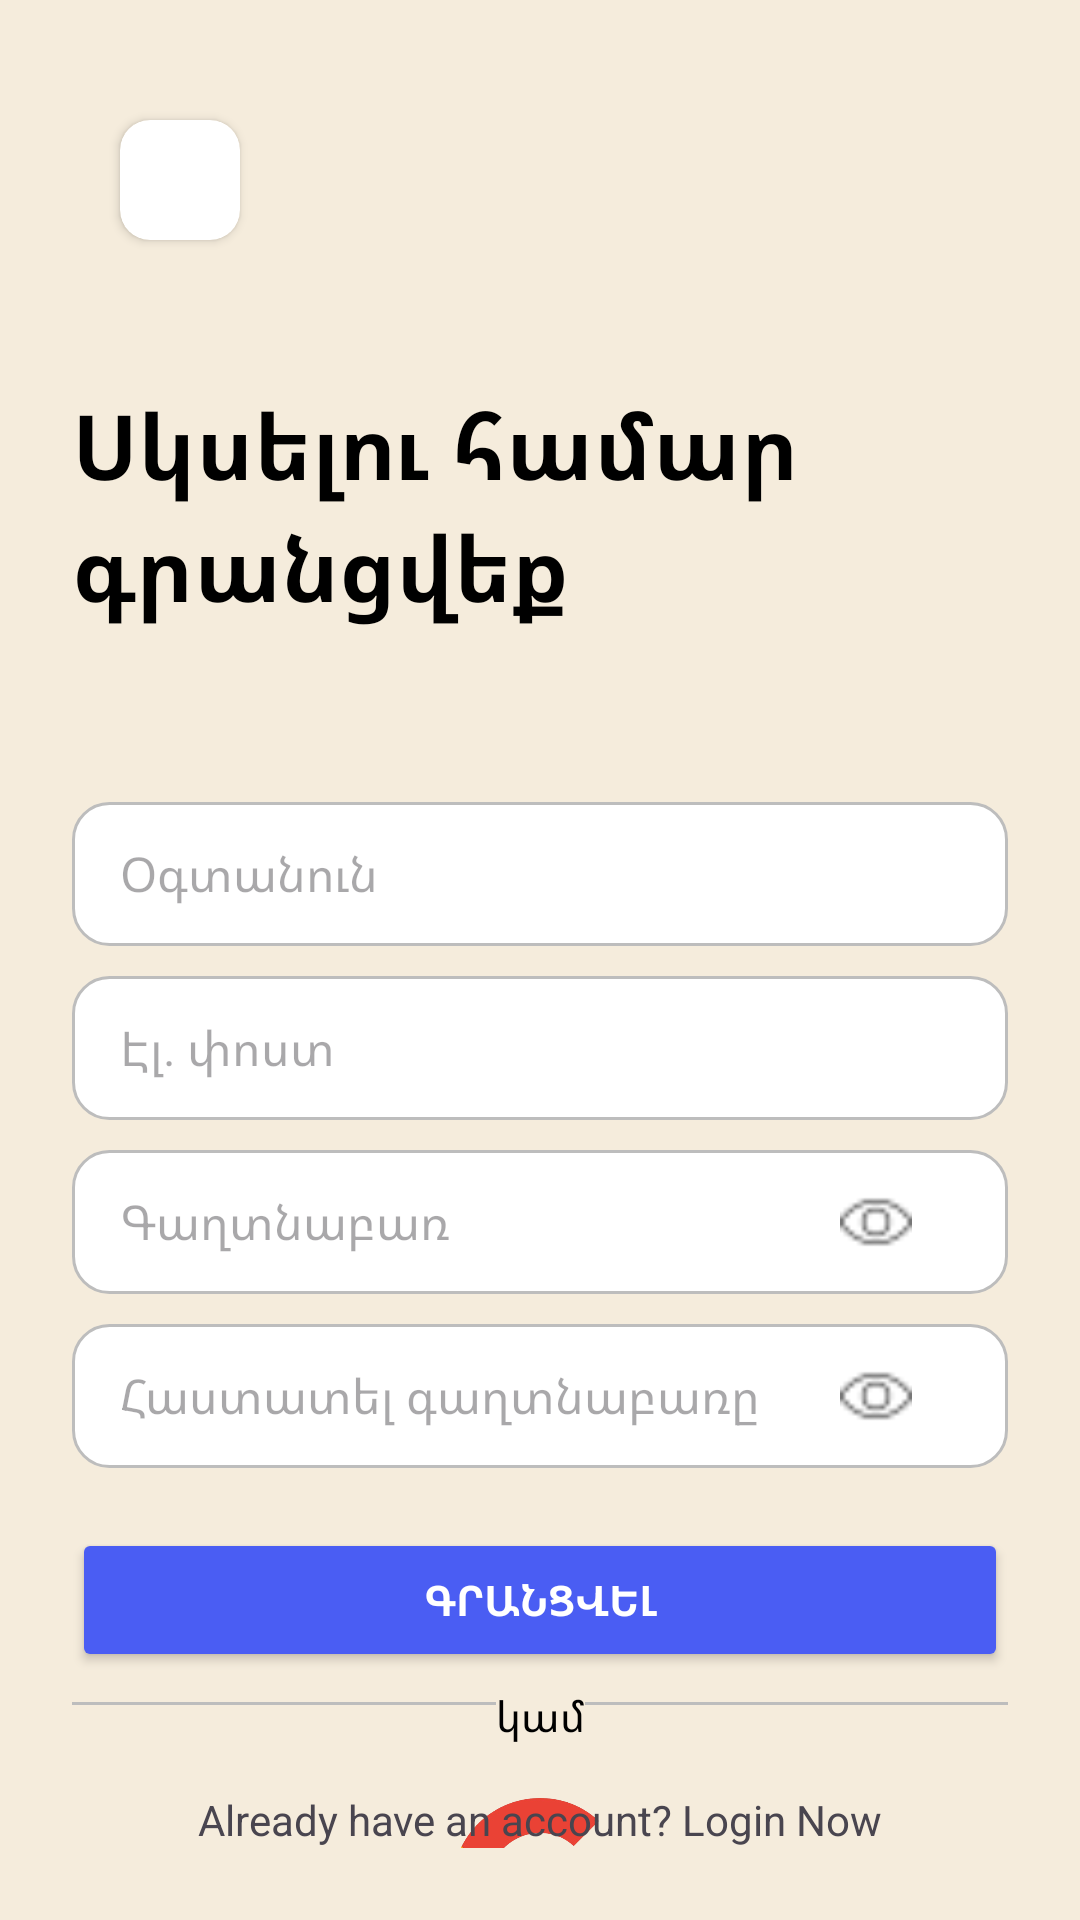

Where to tap for icons on this 1080 x 1920 app screen, as (x,y):
Show Password: (876,1222), (876,1396)
